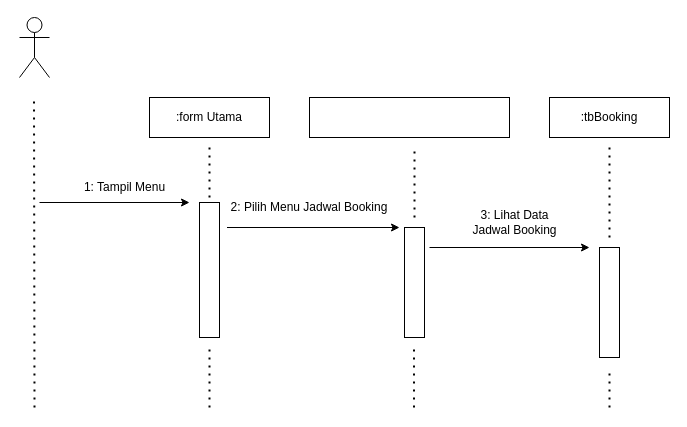
The diagram is 687 pixels wide and 427 high, and some of its shapes have lost their labels. The box of each missing label's shape, as (x1, y1, x2, y2) in pixels:
:formKelolaDataJadwalBooking: (308, 96, 510, 138)
Admin: (18, 16, 50, 78)
